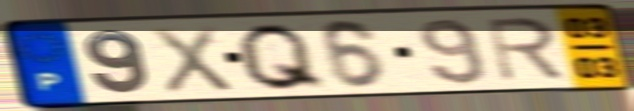6: (319, 17, 388, 91)
9: (414, 15, 490, 87), (80, 26, 154, 98)
Q: (233, 21, 331, 94)
R: (482, 15, 569, 84)
X: (147, 24, 238, 96)
